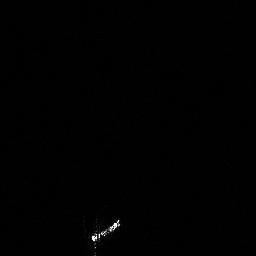ship: (91, 218, 121, 241)
